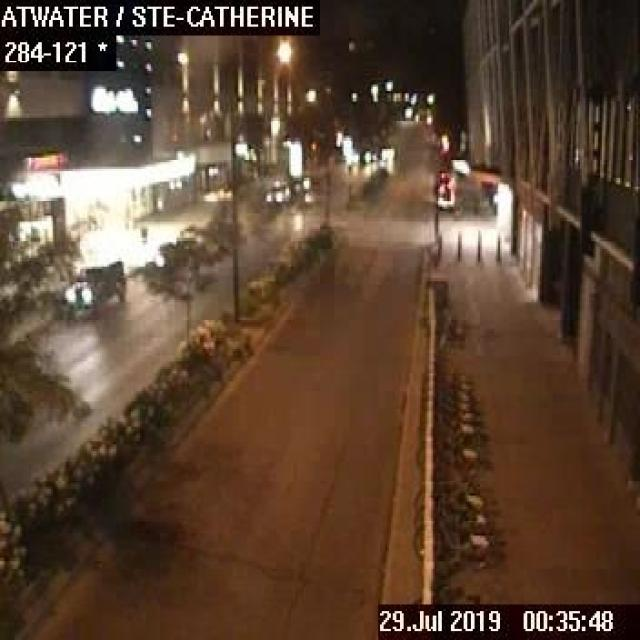vehicle: (63, 260, 125, 311), (264, 178, 289, 203)
